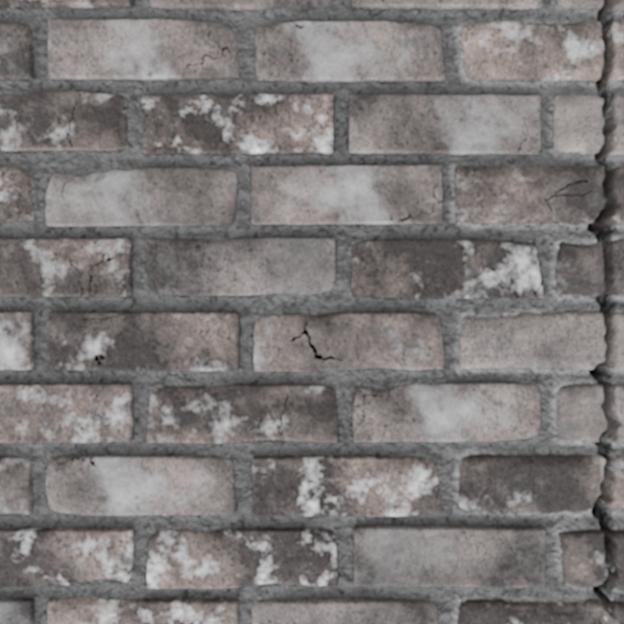brick: (354, 526, 545, 586), (48, 19, 237, 79), (142, 94, 332, 153), (350, 95, 539, 154), (147, 528, 336, 587), (256, 22, 444, 81), (47, 456, 235, 514), (253, 457, 440, 515), (353, 383, 540, 441), (147, 385, 336, 442), (254, 313, 443, 370), (252, 166, 441, 223), (46, 168, 235, 225), (48, 313, 238, 369), (146, 238, 334, 294), (351, 241, 539, 297), (0, 528, 132, 588), (0, 384, 131, 442), (0, 239, 131, 295), (0, 92, 126, 150), (48, 598, 237, 623), (252, 599, 437, 623), (0, 312, 33, 368), (0, 23, 33, 78), (0, 457, 32, 513), (0, 167, 32, 221), (150, 0, 332, 9), (352, 0, 541, 8), (0, 0, 130, 7), (0, 598, 33, 623), (403, 204, 441, 223), (538, 289, 541, 297)
broken_brick: (454, 165, 603, 224), (458, 454, 603, 514), (460, 20, 602, 81), (459, 311, 604, 370), (457, 598, 600, 623), (552, 95, 602, 154), (556, 384, 605, 442), (558, 529, 606, 587), (555, 242, 602, 295), (610, 95, 623, 156), (608, 456, 623, 508), (611, 21, 623, 81), (613, 166, 623, 225), (613, 313, 623, 370), (614, 529, 623, 591), (614, 238, 623, 296), (615, 385, 623, 443), (556, 0, 601, 9), (613, 600, 623, 623), (614, 0, 623, 11)
crack: (586, 0, 621, 623), (388, 181, 442, 223), (88, 251, 115, 296), (488, 262, 518, 298), (353, 393, 377, 425), (59, 455, 97, 468), (80, 311, 127, 320), (516, 128, 528, 153), (533, 281, 541, 298), (291, 21, 304, 29), (47, 479, 50, 490), (536, 149, 541, 154)
